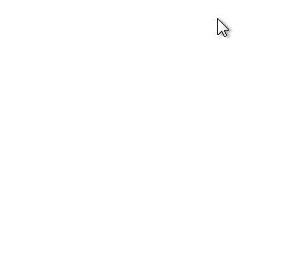cursor: (215, 16, 231, 39)
